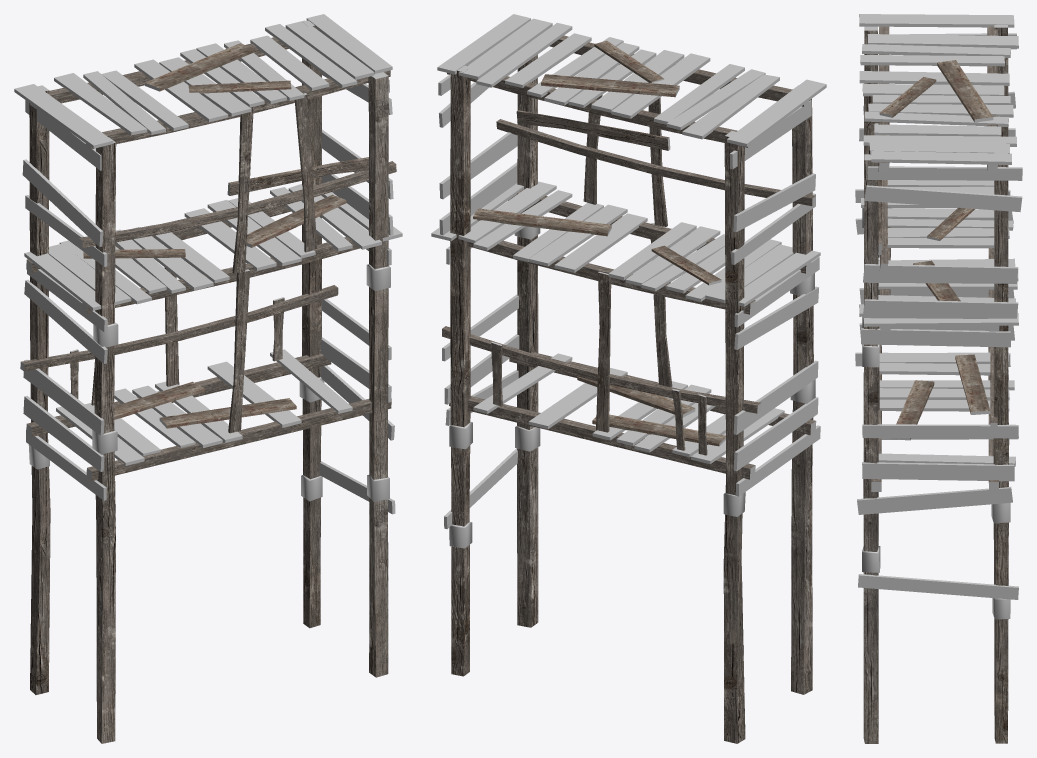
The model's file is Scaff2.fbx.
The picture shows the model from 3 angles, left to right: view 1: azimuth 30°, elevation 25°; view 2: azimuth 150°, elevation 25°; view 3: azimuth 270°, elevation 25°; orthographic projection. The views are drawn at different scales.
Visible parts, largest first — view 1: polySurface259; view 2: polySurface259; view 3: polySurface259.
Part boxes in pixels (bbox=[...]): polySurface259: bbox=[14, 14, 402, 743]; polySurface259: bbox=[431, 14, 826, 743]; polySurface259: bbox=[855, 14, 1022, 743].
Size of the model in its own units: 4.54 by 8.32 by 2.14.
